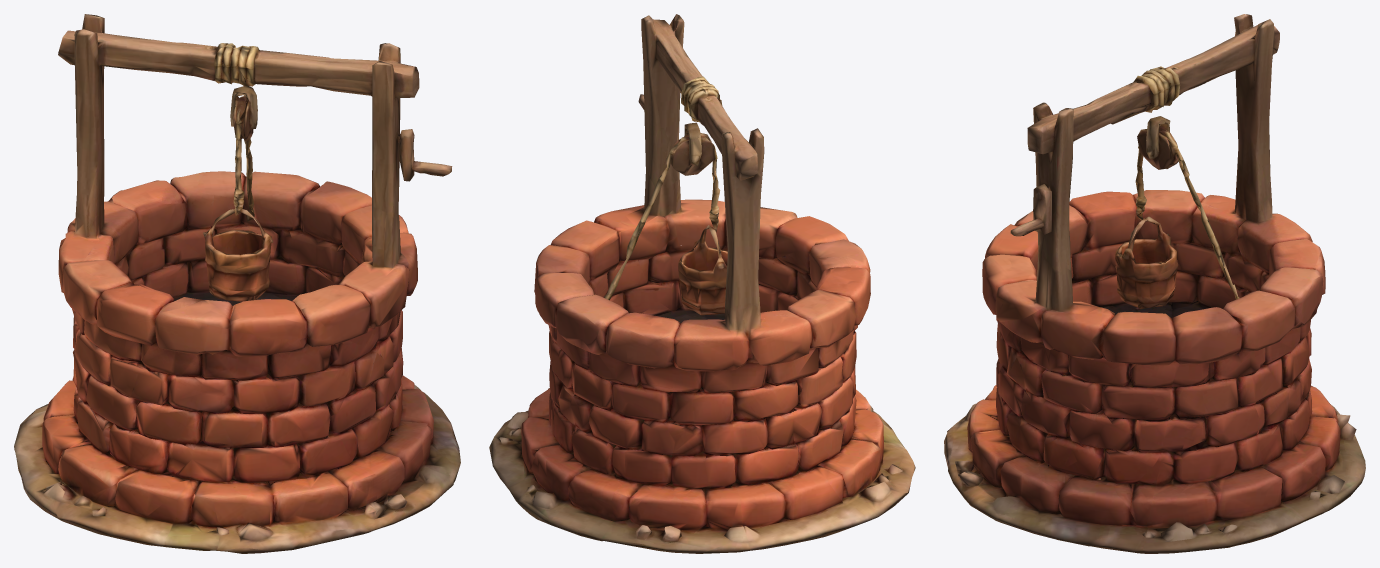
The model's file is gieng-lang-vua.65458030.glb.
3 views of the same model, side by side, from view 1: azimuth 30°, elevation 25°; view 2: azimuth 150°, elevation 25°; view 3: azimuth 270°, elevation 25° (orthographic). The views are drawn at different scales.
Visible parts, largest first — view 1: tripo_node_fb805553-52f2-4185-b9ef-6fc1e2ca0178; view 2: tripo_node_fb805553-52f2-4185-b9ef-6fc1e2ca0178; view 3: tripo_node_fb805553-52f2-4185-b9ef-6fc1e2ca0178.
Part boxes in pixels (x1=…): tripo_node_fb805553-52f2-4185-b9ef-6fc1e2ca0178: x1=14, y1=14, x2=460, y2=553; tripo_node_fb805553-52f2-4185-b9ef-6fc1e2ca0178: x1=489, y1=14, x2=915, y2=553; tripo_node_fb805553-52f2-4185-b9ef-6fc1e2ca0178: x1=944, y1=14, x2=1365, y2=553.
Size of the model in its own units: 0.9657 by 0.9784 by 0.9286.
Materials: 1 (1 with a texture image).
